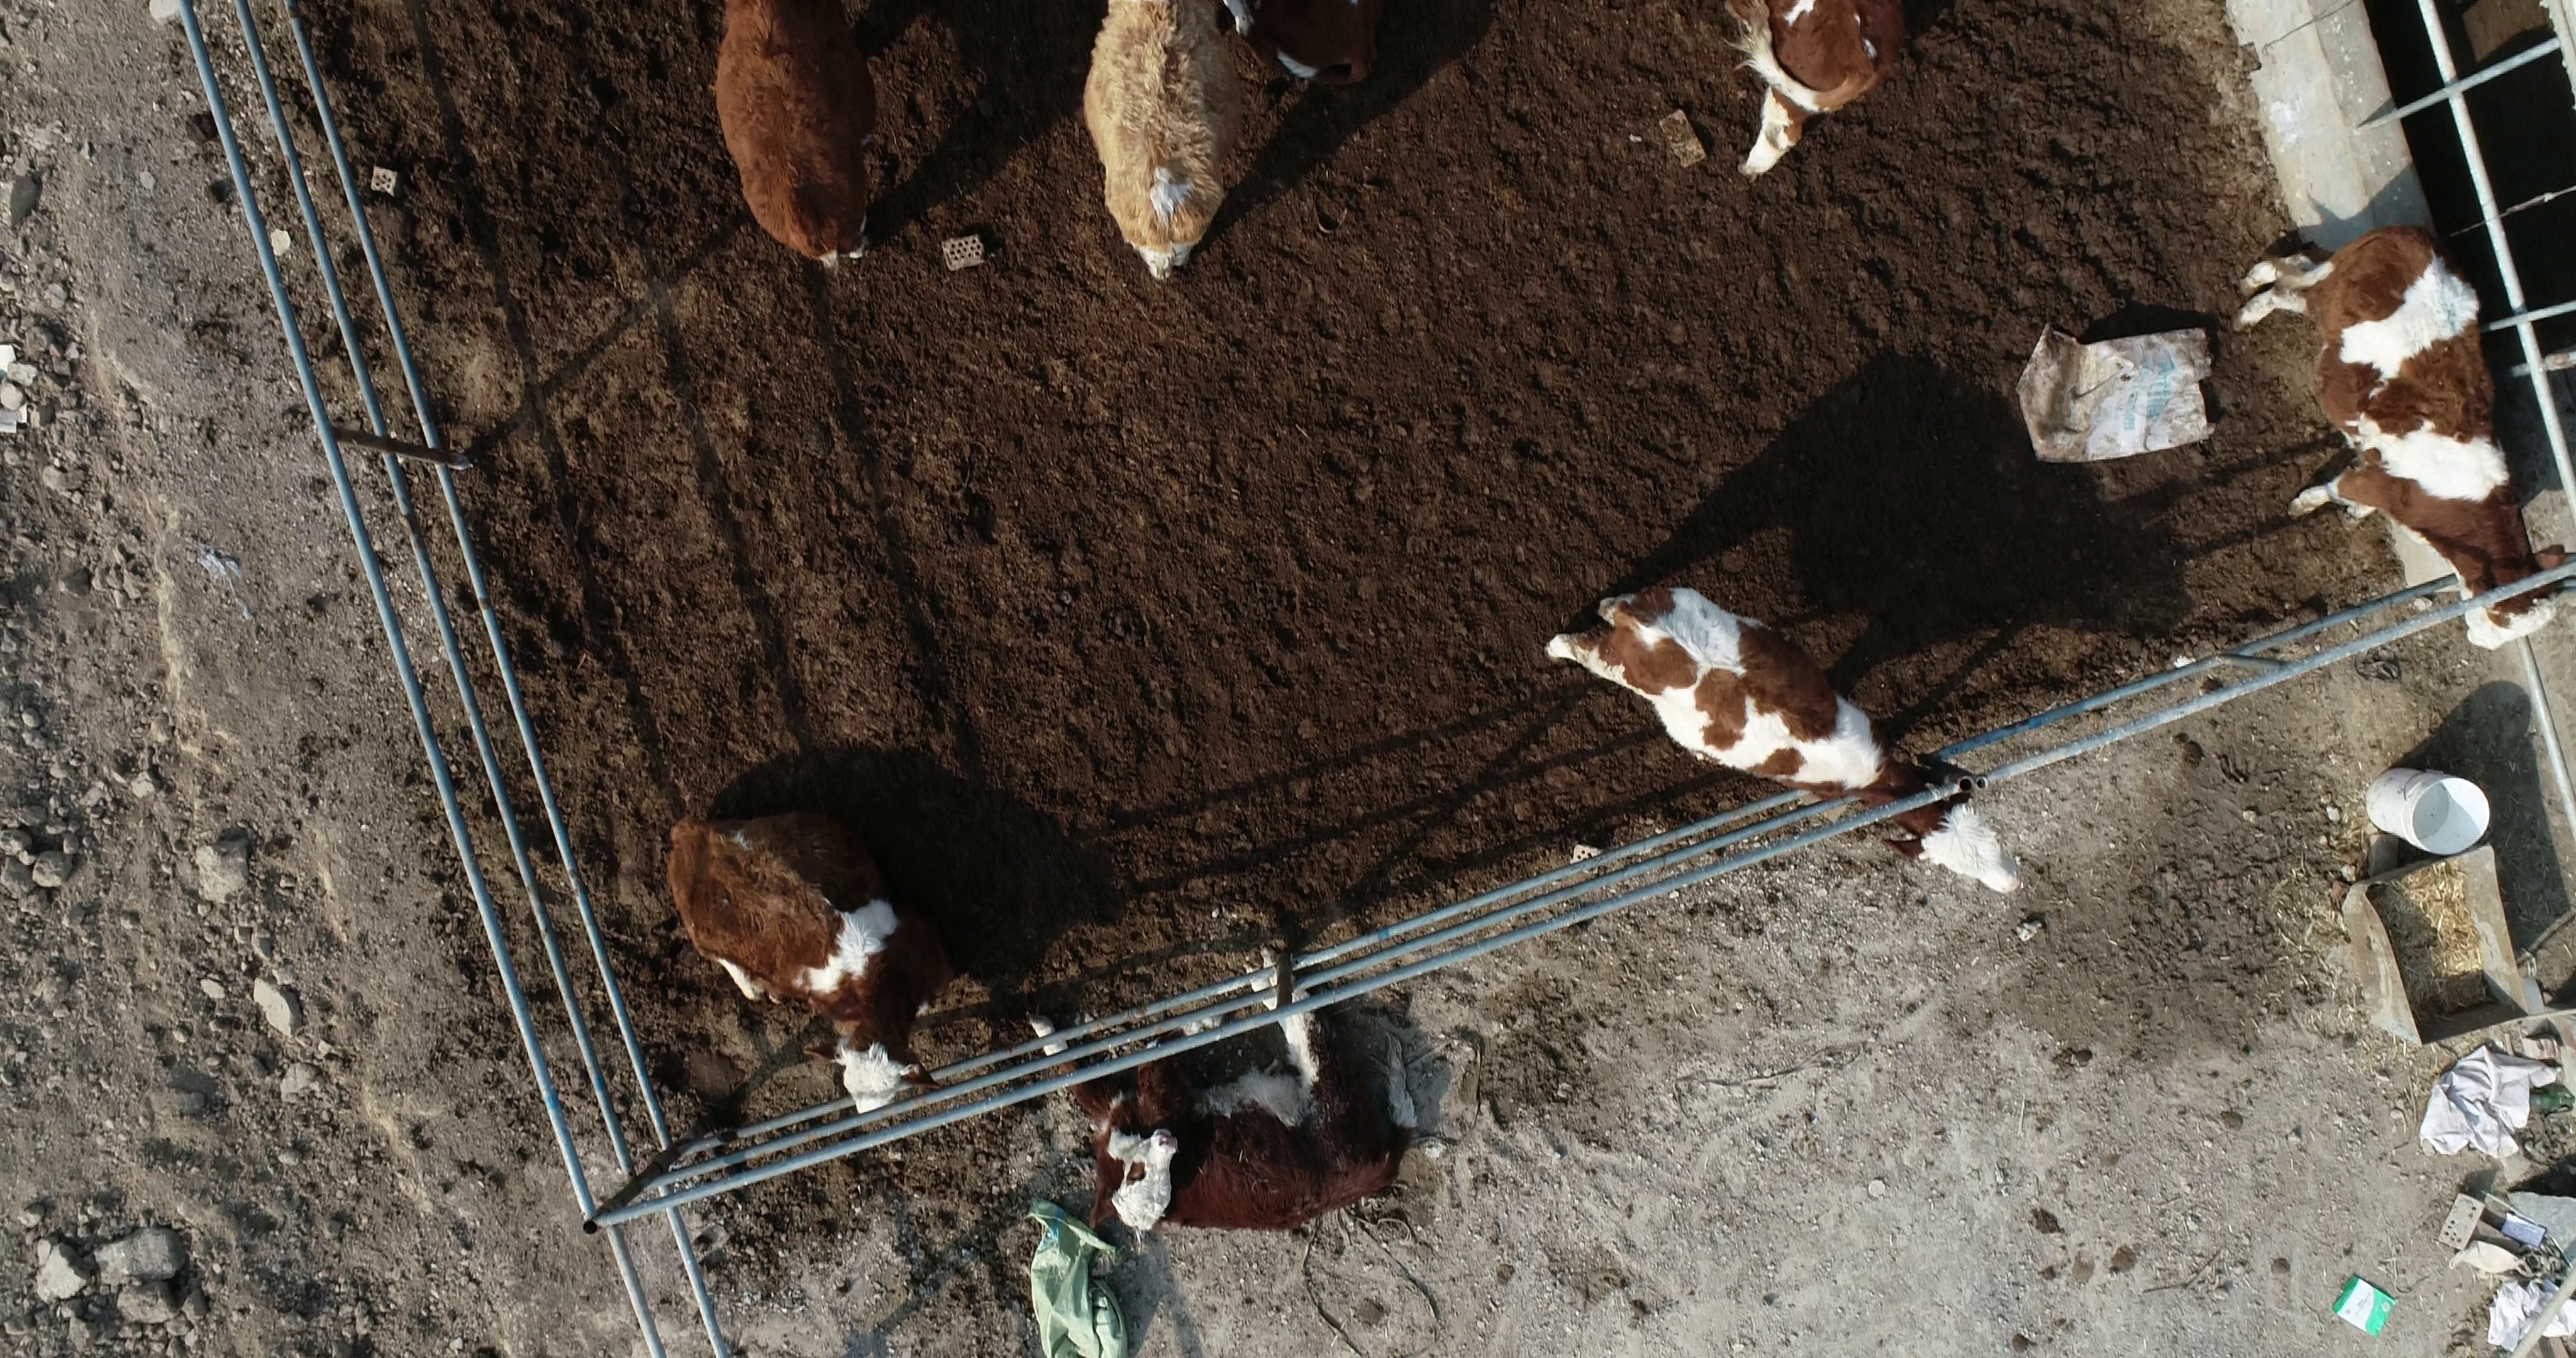cattle: (1535, 571, 2033, 906), (2232, 218, 2569, 653), (1015, 946, 1429, 1240), (658, 796, 964, 1113)
